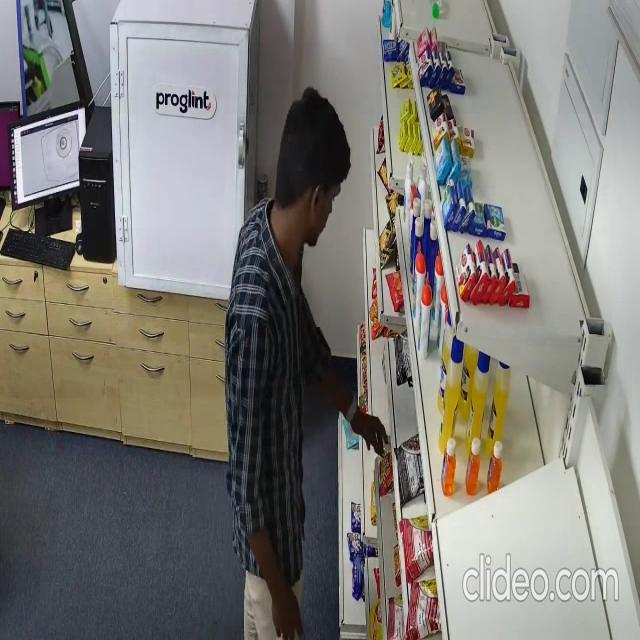normal: (227, 87, 387, 640)
